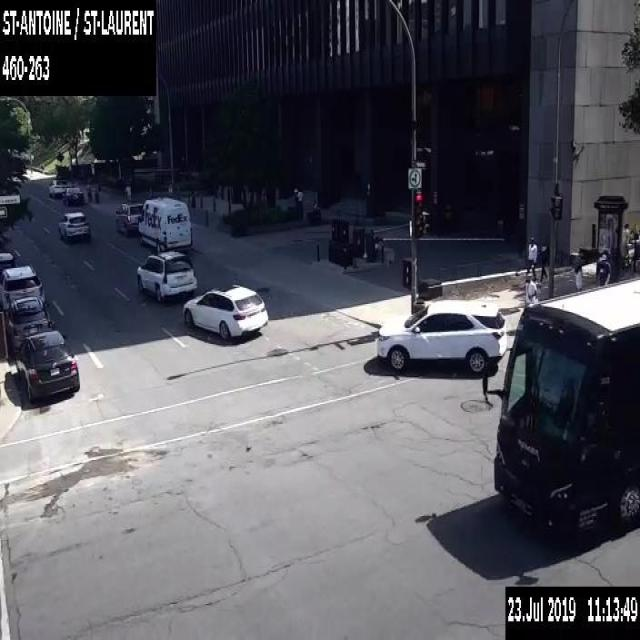bus: (481, 275, 639, 547)
pedestrian: (524, 236, 537, 281), (595, 251, 610, 285), (537, 240, 548, 280), (621, 222, 629, 270), (525, 273, 537, 305), (574, 253, 582, 291), (188, 190, 195, 214), (630, 222, 639, 240), (86, 185, 92, 202)
vehicle: (376, 298, 506, 376), (13, 329, 79, 404), (182, 284, 268, 340), (136, 249, 197, 301), (138, 195, 192, 253), (5, 294, 53, 354), (0, 264, 45, 308), (57, 211, 91, 242), (115, 200, 144, 234), (61, 187, 84, 204), (49, 178, 70, 196), (0, 252, 15, 273)
